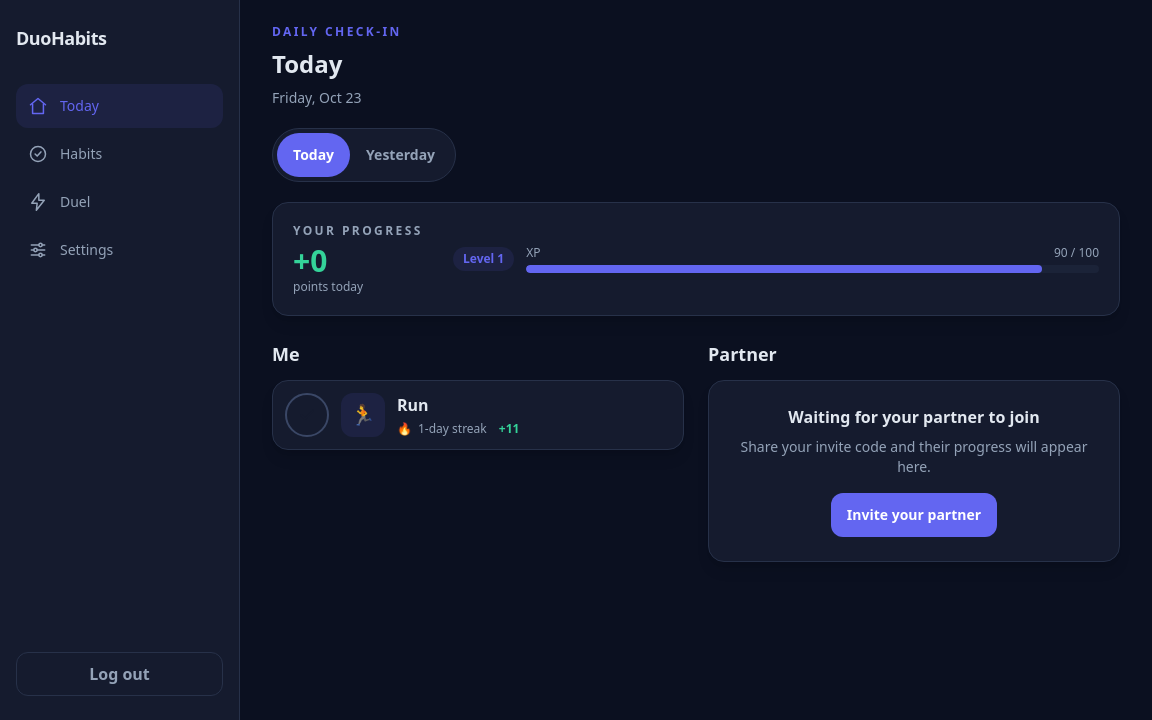
Scenario: TodayPage › optimistically checks in, shows +XP and level-up confetti, then settles
The image size is (1152, 720).
expect the heading "Today" is shown: met, box 272,47 -> 342,80
expect the text "Run" is shown: met, box 397,394 -> 429,416
Click the button with aria-label "Mark Run done for today". click: (307, 415)
box: 272,380 -> 684,450
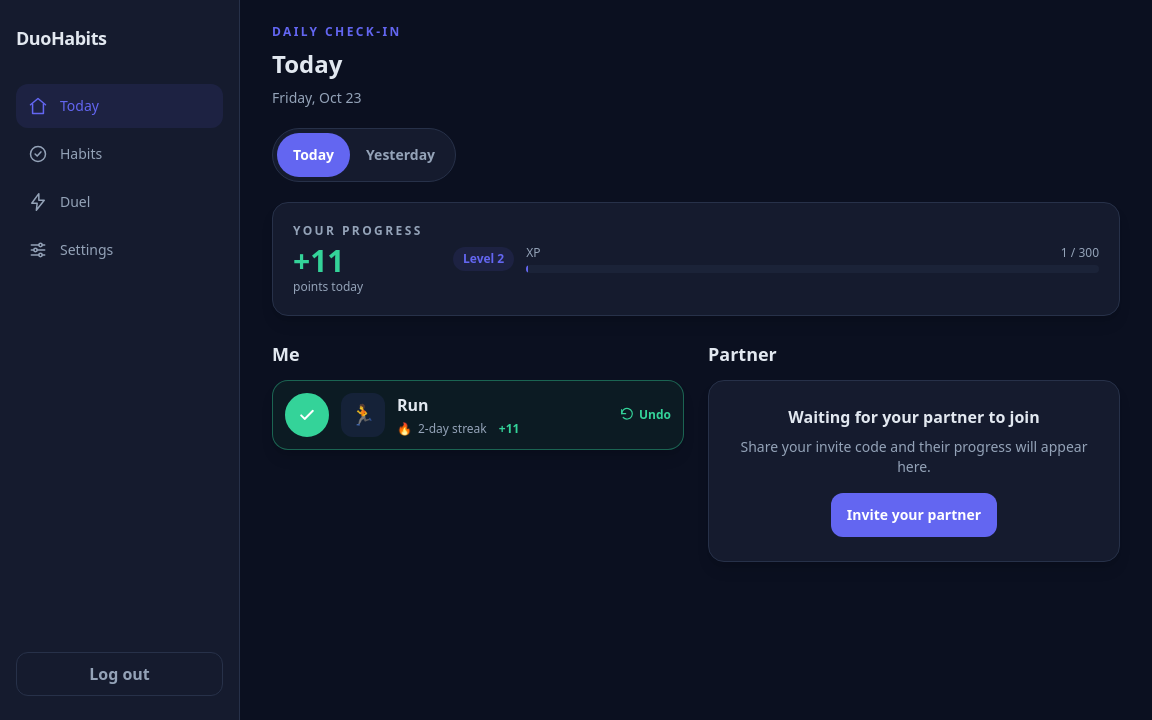
expect the button with aria-label "Undo Run for today" is shown: met, box 272,380 -> 684,450
expect the text "Level 2" is shown: met, box 453,247 -> 514,271
expect the text "+11" below "Your progress" is shown: met, box 293,240 -> 344,281
